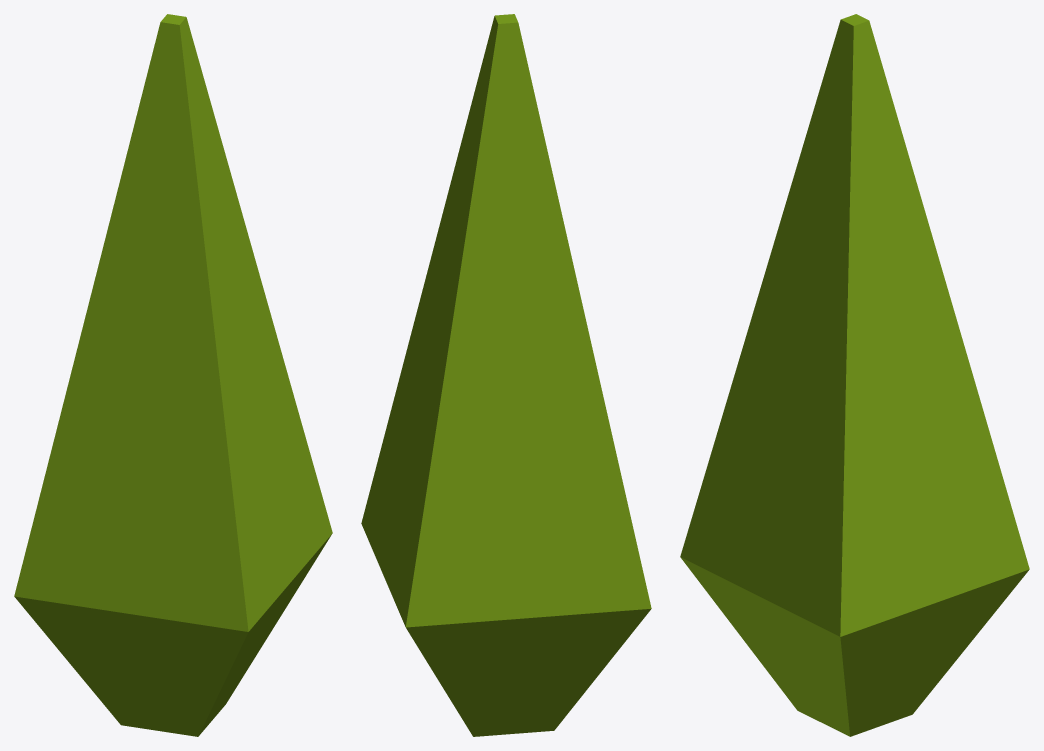
File: tree-summer-leaves-028.glb
3 renders of one model, left to right at view 1: azimuth 30°, elevation 25°; view 2: azimuth 150°, elevation 25°; view 3: azimuth 270°, elevation 25°, orthographic.
Visible parts, largest first — view 1: Plane.003_257; view 2: Plane.003_257; view 3: Plane.003_257.
Part boxes in pixels (x1,y1,x2,y2): Plane.003_257: (14,14,332,736); Plane.003_257: (361,14,651,736); Plane.003_257: (680,14,1029,736).
Size of the model in its own units: 0.6307 by 1.38 by 0.6307.
